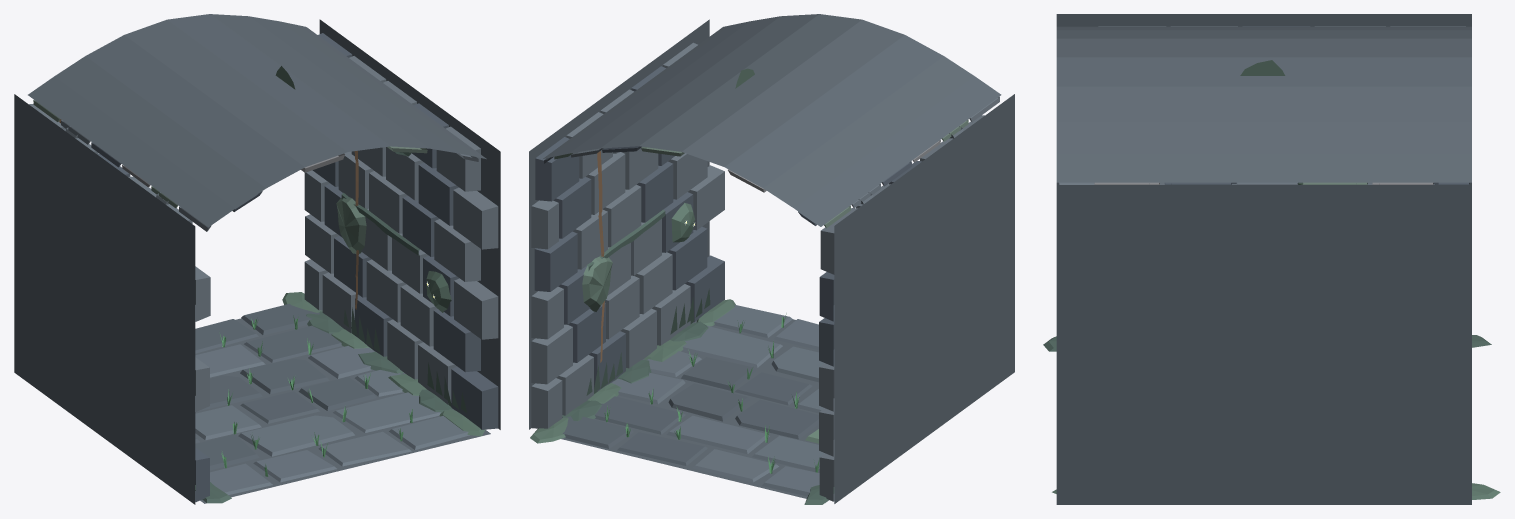
Rendered from tile_corridor_straight.glb.
3 renders of one model, left to right at view 1: azimuth 30°, elevation 25°; view 2: azimuth 150°, elevation 25°; view 3: azimuth 270°, elevation 25°, orthographic. The views are drawn at different scales.
Parts seen in each view (by area): view 1: Tile_Corridor_Straight; view 2: Tile_Corridor_Straight; view 3: Tile_Corridor_Straight.
Part boxes in pixels (x1,y1,x2,y2): Tile_Corridor_Straight: (14, 14, 500, 504); Tile_Corridor_Straight: (529, 14, 1014, 504); Tile_Corridor_Straight: (1043, 14, 1500, 504).
Size of the model in its own units: 3.9 by 4 by 4.41.
